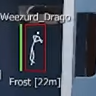hacks_3: (1, 13, 72, 87)
